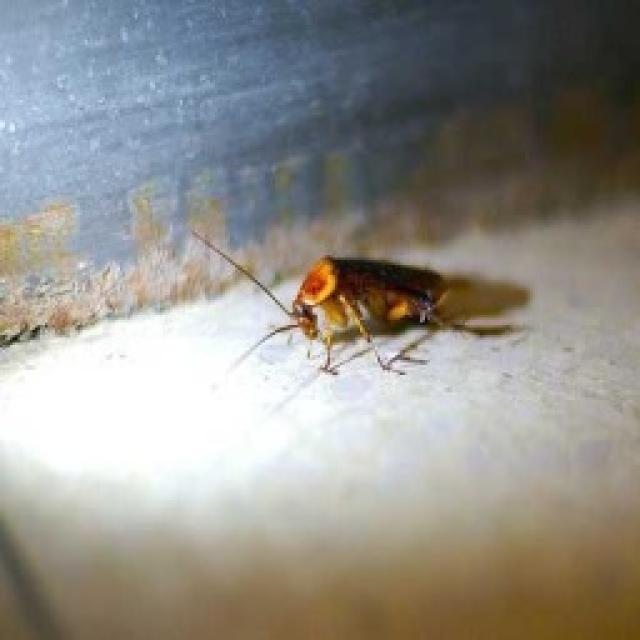cockroach: (178, 218, 534, 383)
